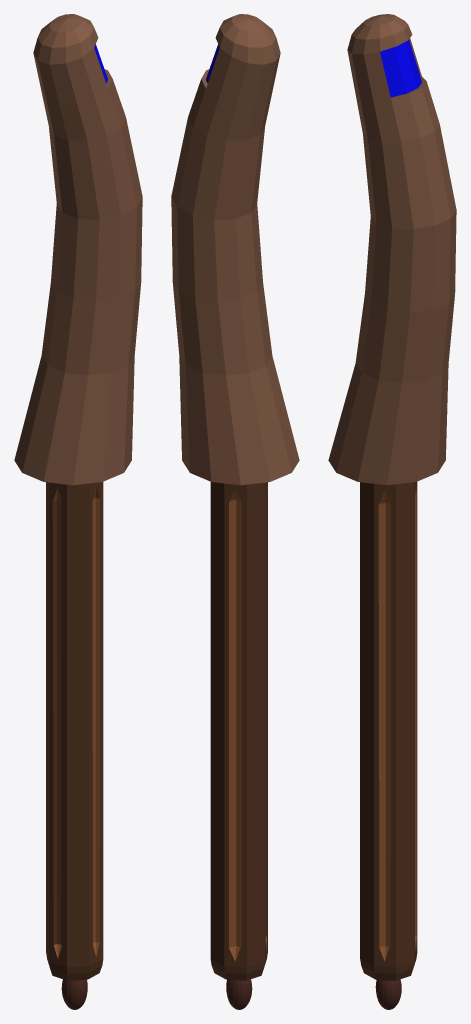
Rendered from Wand 546.glb.
3 views of the same model, side by side, from view 1: azimuth 30°, elevation 25°; view 2: azimuth 150°, elevation 25°; view 3: azimuth 330°, elevation 25° (orthographic).
Parts seen in each view (by area): view 1: GeneratedWand; view 2: GeneratedWand; view 3: GeneratedWand.
Part boxes in pixels (bbox=[...]): GeneratedWand: bbox=[14, 14, 142, 1009]; GeneratedWand: bbox=[171, 14, 299, 1009]; GeneratedWand: bbox=[328, 14, 456, 1009].
Size of the model in its own units: 0.0644 by 0.532 by 0.0572.
